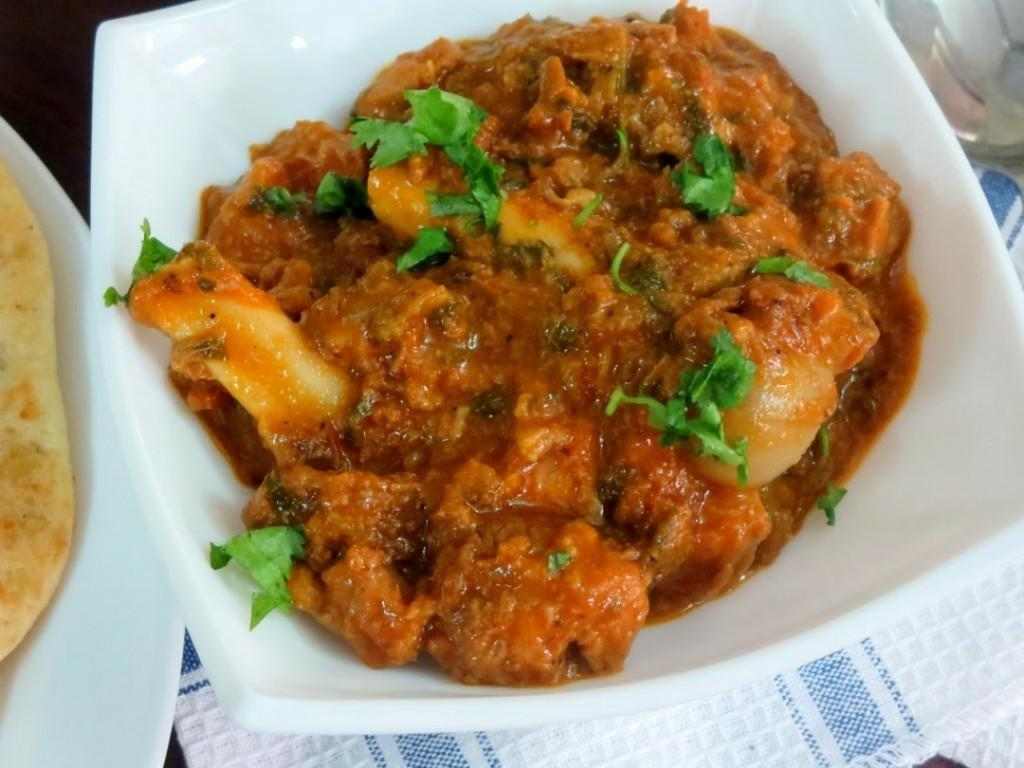MuttonCurry: (130, 0, 926, 688)
